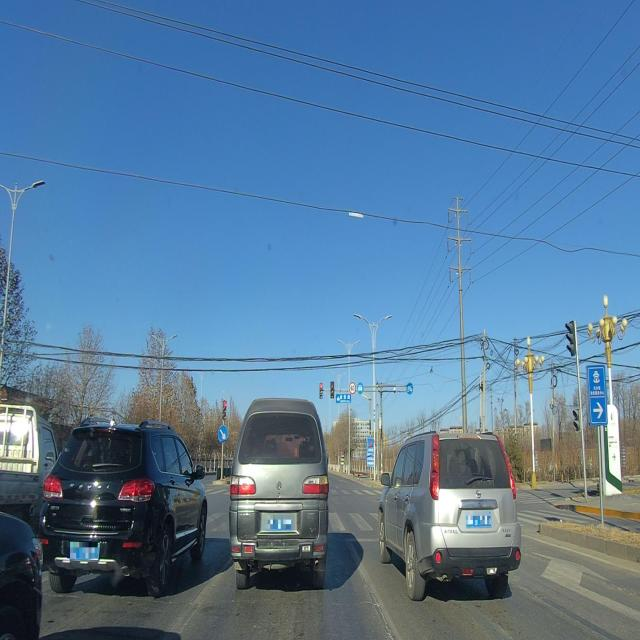Traffic Light -Off-: (564, 319, 577, 358), (573, 406, 581, 434)
Traffic Light -Red-: (318, 381, 324, 400), (329, 381, 335, 400), (222, 399, 226, 421)
